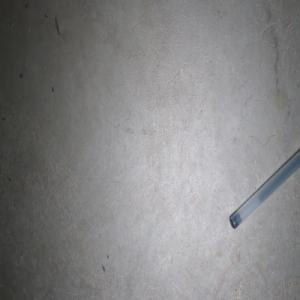Pen: (229, 149, 300, 228)
